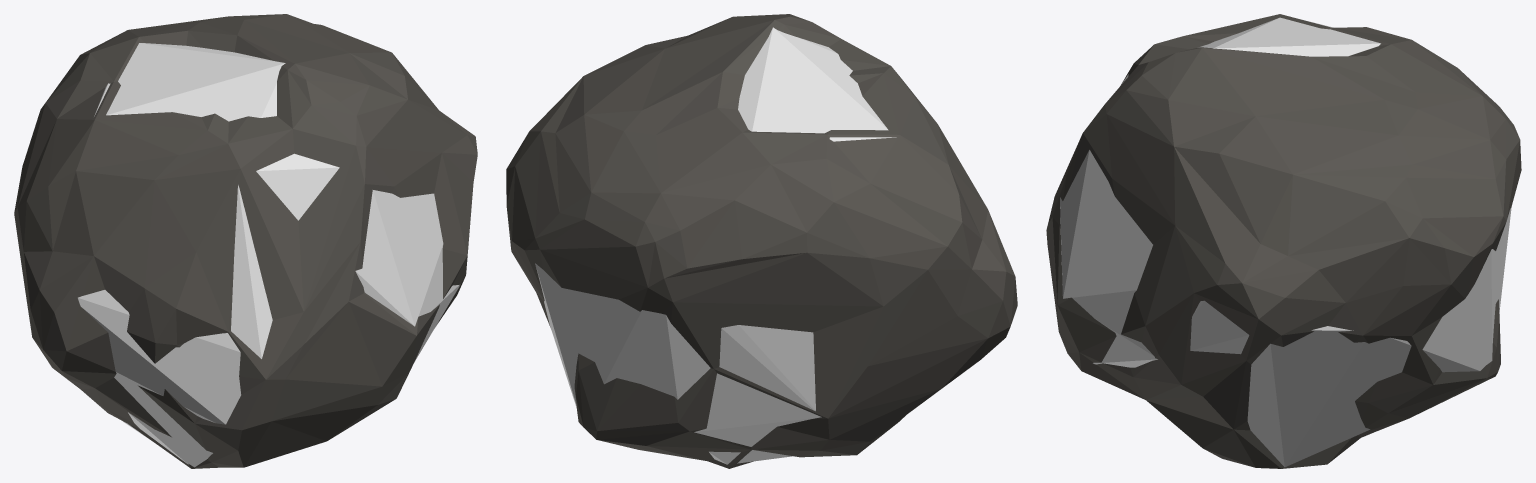
Rendered from SM_Env_Asteroid_Holes_01.fbx.
3 views of the same model, side by side, from view 1: azimuth 30°, elevation 25°; view 2: azimuth 150°, elevation 25°; view 3: azimuth 270°, elevation 25° (orthographic).
Visible parts, largest first — view 1: SM_Env_Asteroid_Holes_01_LOD0, SM_Env_Asteroid_Holes_01_ConvexHulls; view 2: SM_Env_Asteroid_Holes_01_LOD0, SM_Env_Asteroid_Holes_01_ConvexHulls; view 3: SM_Env_Asteroid_Holes_01_LOD0, SM_Env_Asteroid_Holes_01_ConvexHulls.
Boxes of the visible parts, left/top/right/bottom form: SM_Env_Asteroid_Holes_01_LOD0: left=14, top=14, right=477, bottom=468; SM_Env_Asteroid_Holes_01_ConvexHulls: left=78, top=43, right=460, bottom=467; SM_Env_Asteroid_Holes_01_LOD0: left=506, top=14, right=1017, bottom=468; SM_Env_Asteroid_Holes_01_ConvexHulls: left=535, top=27, right=896, bottom=464; SM_Env_Asteroid_Holes_01_LOD0: left=1046, top=14, right=1521, bottom=468; SM_Env_Asteroid_Holes_01_ConvexHulls: left=1060, top=17, right=1511, bottom=467.
Bounding box in the file's own units: 281 × 311 × 259.
Materials: 1 (1 with a texture image).
